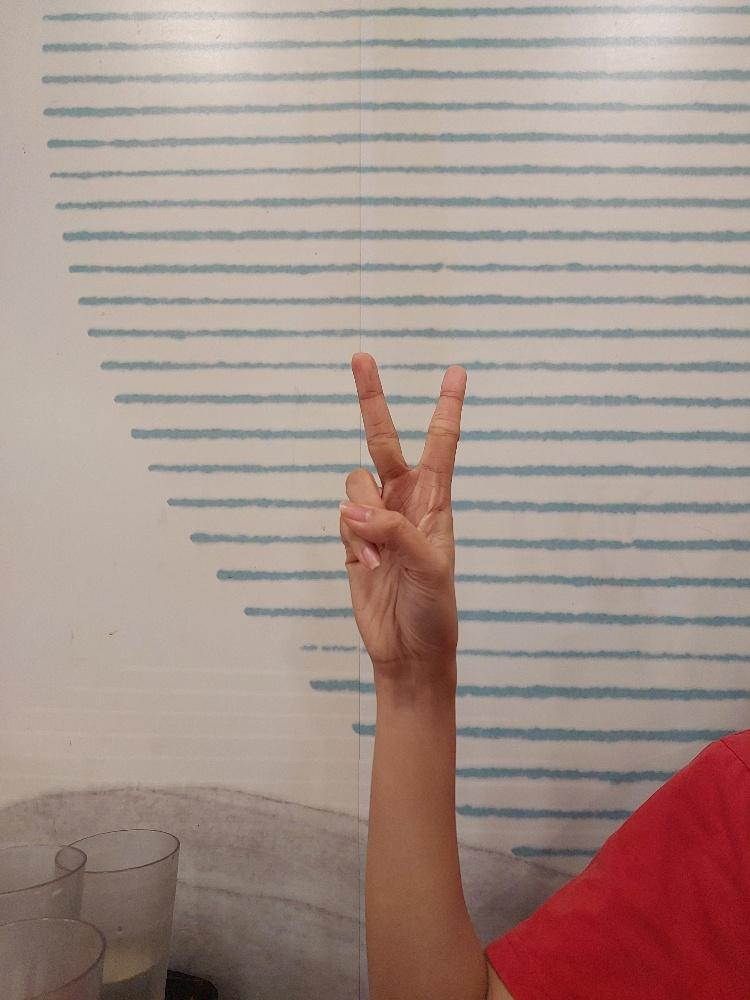v: (336, 348, 468, 673)
